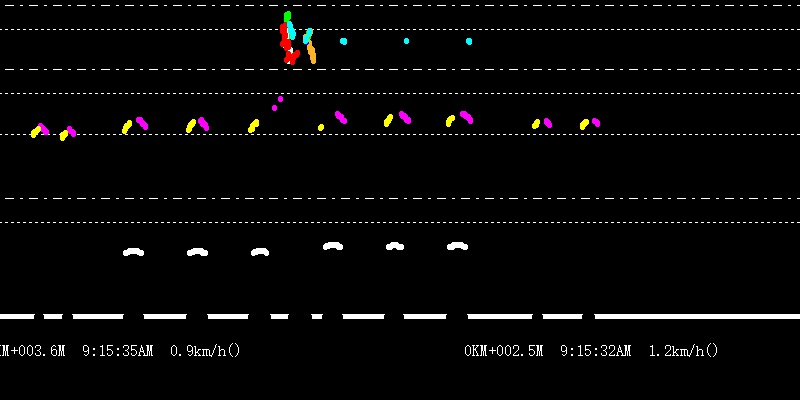J: (280, 2, 317, 66)
y_p: (108, 111, 480, 257)
